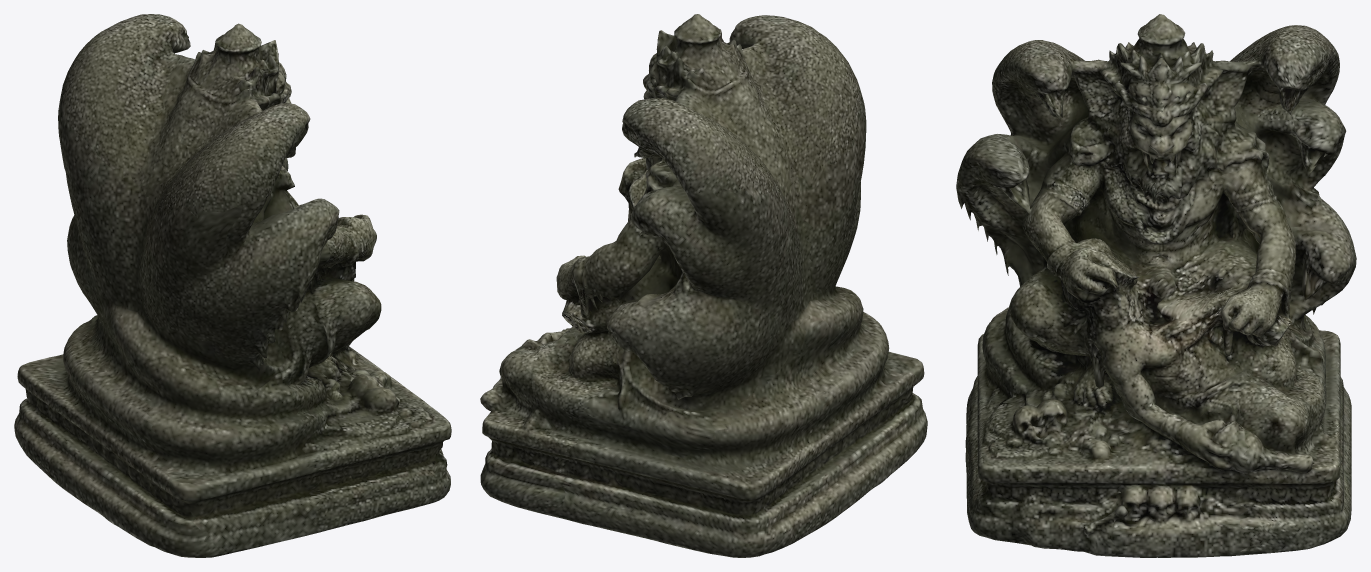
Rendered from tripo_convert_f13f23ef-10e9-4870-92ee-d607ee9cbb23.fbx.
The picture shows the model from 3 angles, left to right: view 1: azimuth 30°, elevation 25°; view 2: azimuth 150°, elevation 25°; view 3: azimuth 270°, elevation 25°; orthographic projection. The views are drawn at different scales.
Visible parts, largest first — view 1: tripo_node_f13f23ef; view 2: tripo_node_f13f23ef; view 3: tripo_node_f13f23ef.
Boxes of the visible parts, x1,y1,x2,y2 form: tripo_node_f13f23ef: (14,14,451,557); tripo_node_f13f23ef: (480,14,927,557); tripo_node_f13f23ef: (956,14,1356,557).
Size of the model in its own units: 0.7325 by 0.9958 by 0.7754.
Materials: 1 (1 with a texture image).
